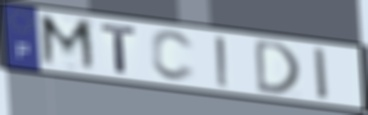C: (149, 29, 198, 84)
D: (253, 37, 302, 96)
I: (312, 46, 332, 103), (213, 34, 232, 90)
M: (37, 12, 100, 75)
T: (99, 23, 140, 76)
